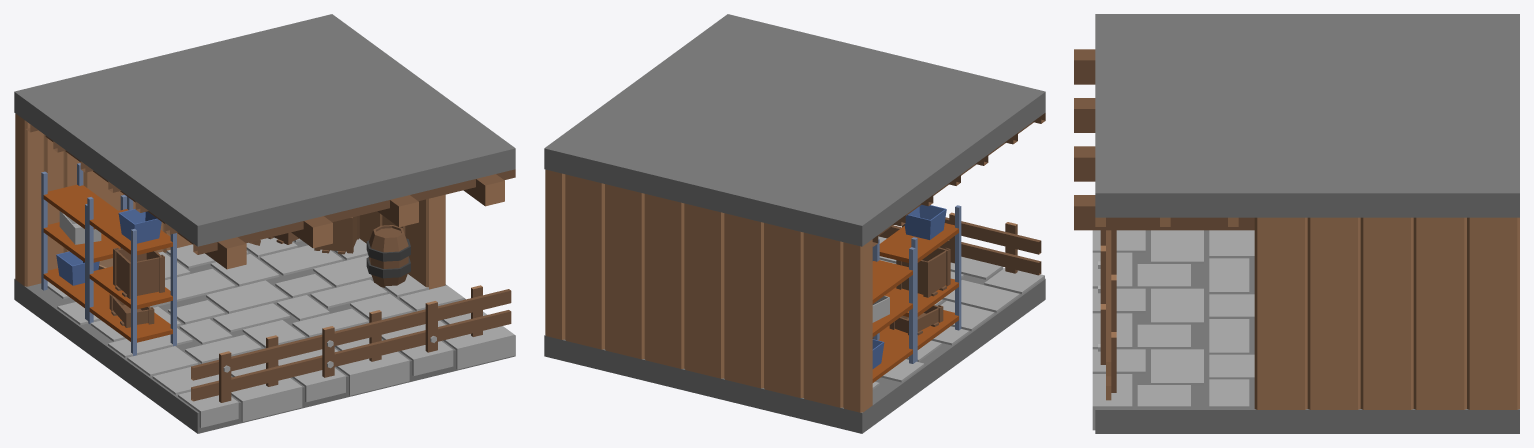
The model's file is ResourceStorage_Level_01_StraightRight.fbx.
3 views of the same model, side by side, from view 1: azimuth 30°, elevation 25°; view 2: azimuth 150°, elevation 25°; view 3: azimuth 270°, elevation 25° (orthographic). The views are drawn at different scales.
Visible parts, largest first — view 1: ResourceStorage_Level_01_StraightRight; view 2: ResourceStorage_Level_01_StraightRight; view 3: ResourceStorage_Level_01_StraightRight.
Part boxes in pixels (x1=…): ResourceStorage_Level_01_StraightRight: x1=14, y1=14, x2=515, y2=433; ResourceStorage_Level_01_StraightRight: x1=544, y1=14, x2=1045, y2=433; ResourceStorage_Level_01_StraightRight: x1=1074, y1=14, x2=1519, y2=433.
Size of the model in its own units: 8 by 5 by 8.4.
